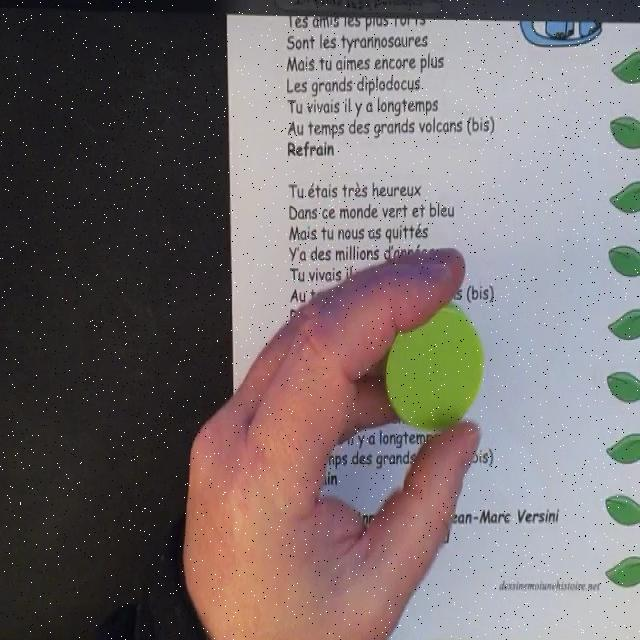round: (383, 301, 485, 436)
